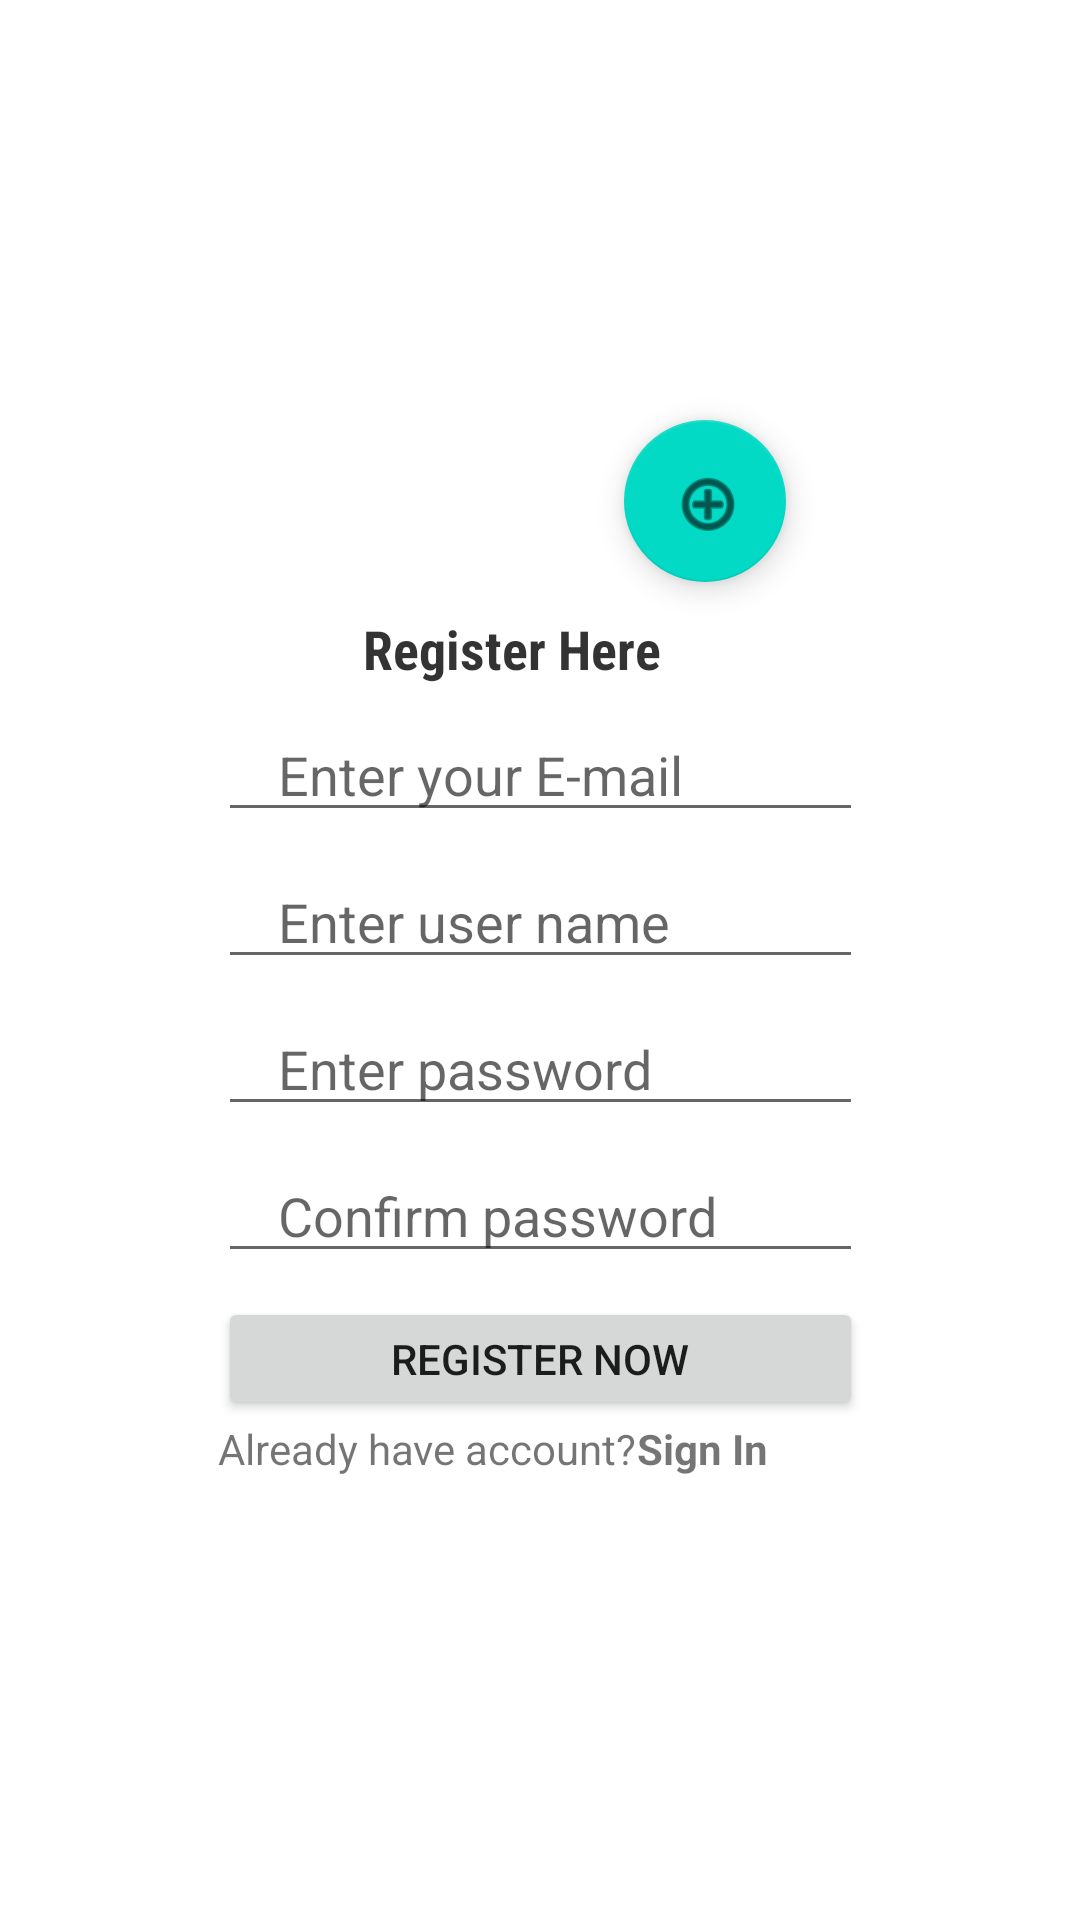

Locate icon controls on the screen. Image size 1080w x 1920h, boxes as (x1, y1, x2, y2).
Add button: (624, 420, 786, 582)
